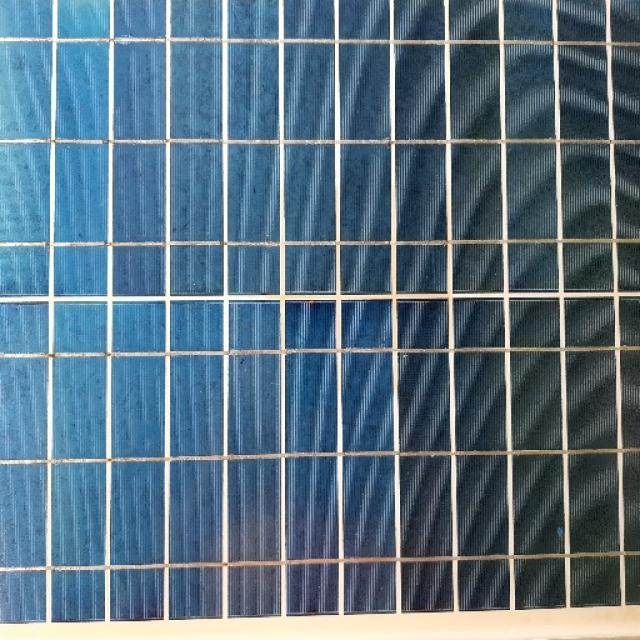Clean: (1, 35, 640, 640)
